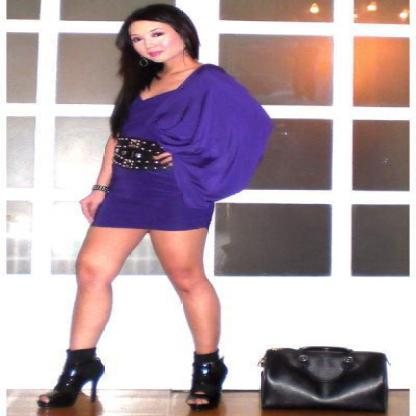bag: (243, 347, 409, 415)
dress: (90, 64, 272, 232)
shoe: (37, 348, 227, 416)
